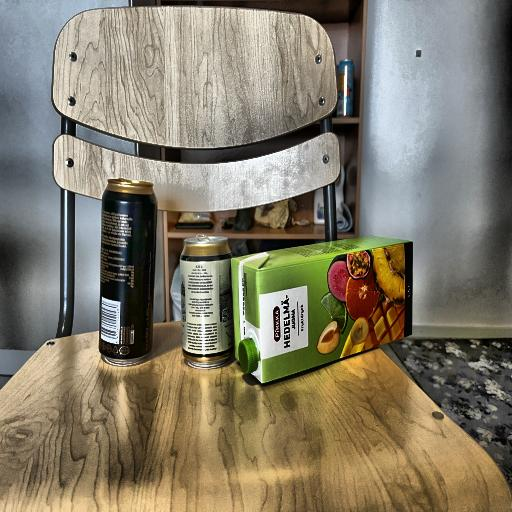karhu: (95, 183, 159, 372)
sandels: (172, 231, 232, 372)
